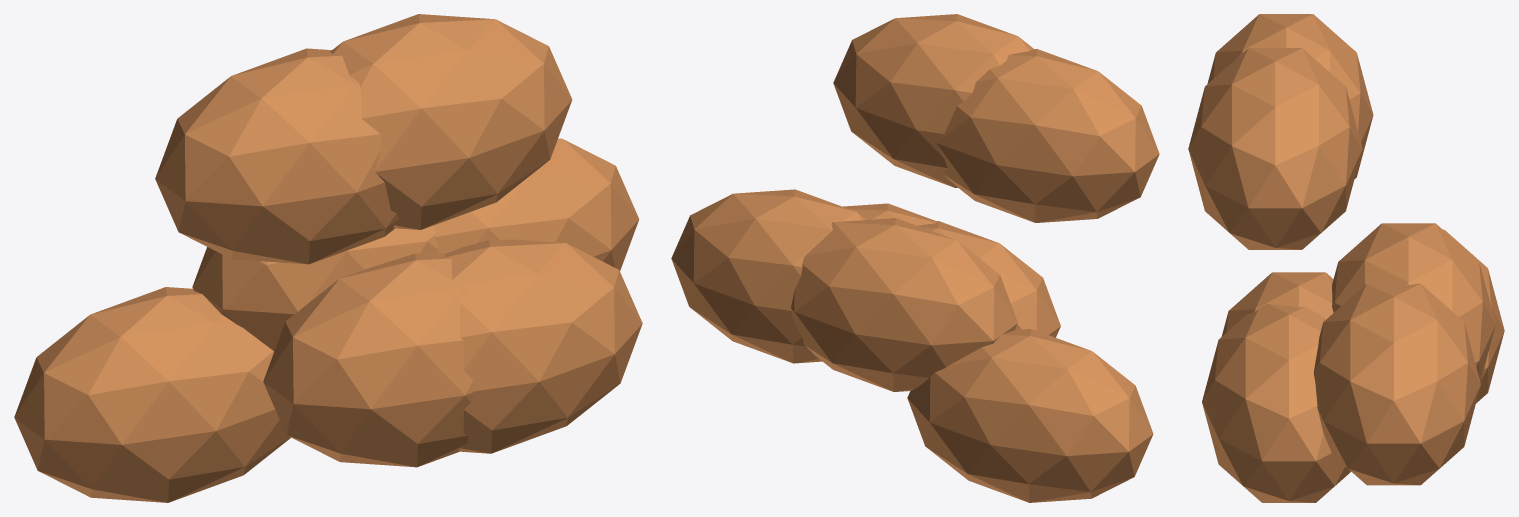
The model's file is ore-9.glb.
3 views of the same model, side by side, from view 1: azimuth 30°, elevation 25°; view 2: azimuth 150°, elevation 25°; view 3: azimuth 270°, elevation 25° (orthographic). The views are drawn at different scales.
Parts seen in each view (by area): view 1: Bronzium metallic nugget.001, Bronzium metallic nugget.005, Bronzium metallic nugget.004, Bronzium metallic nugget.002, Bronzium metallic nugget.006, Bronzium metallic nugget, Bronzium metallic nugget.003; view 2: Bronzium metallic nugget.001, Bronzium metallic nugget.003, Bronzium metallic nugget.005, Bronzium metallic nugget, Bronzium metallic nugget.004, Bronzium metallic nugget.002, Bronzium metallic nugget.006; view 3: Bronzium metallic nugget.004, Bronzium metallic nugget, Bronzium metallic nugget.006, Bronzium metallic nugget.003, Bronzium metallic nugget.005, Bronzium metallic nugget.002, Bronzium metallic nugget.001.
Part boxes in pixels (bbox=[...]): Bronzium metallic nugget.001: bbox=[14, 287, 290, 502]; Bronzium metallic nugget.005: bbox=[155, 48, 399, 264]; Bronzium metallic nugget.004: bbox=[330, 14, 572, 229]; Bronzium metallic nugget.002: bbox=[263, 252, 473, 467]; Bronzium metallic nugget.006: bbox=[444, 239, 642, 453]; Bronzium metallic nugget: bbox=[433, 138, 639, 270]; Bronzium metallic nugget.003: bbox=[192, 225, 437, 351]; Bronzium metallic nugget.001: bbox=[907, 329, 1153, 502]; Bronzium metallic nugget.003: bbox=[791, 218, 1017, 391]; Bronzium metallic nugget.005: bbox=[936, 49, 1159, 222]; Bronzium metallic nugget: bbox=[671, 189, 866, 363]; Bronzium metallic nugget.004: bbox=[833, 14, 1033, 187]; Bronzium metallic nugget.002: bbox=[917, 221, 1060, 337]; Bronzium metallic nugget.006: bbox=[843, 203, 937, 225]; Bronzium metallic nugget.004: bbox=[1188, 48, 1362, 249]; Bronzium metallic nugget: bbox=[1313, 283, 1480, 485]; Bronzium metallic nugget.006: bbox=[1202, 303, 1350, 502]; Bronzium metallic nugget.003: bbox=[1332, 223, 1495, 381]; Bronzium metallic nugget.005: bbox=[1207, 14, 1373, 178]; Bronzium metallic nugget.002: bbox=[1221, 272, 1333, 336]; Bronzium metallic nugget.001: bbox=[1443, 229, 1504, 403].
Size of the model in its own units: 1.59 by 1.28 by 0.8495.
